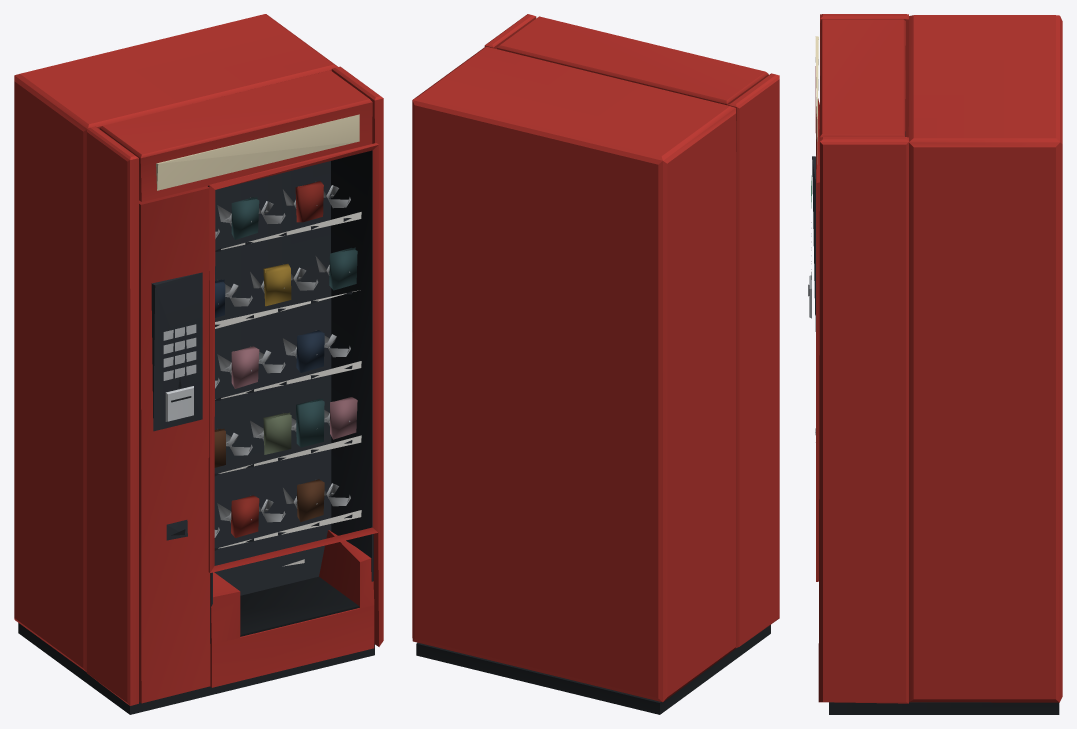
The model's file is vendingSnack.far.glb.
3 renders of one model, left to right at view 1: azimuth 30°, elevation 25°; view 2: azimuth 150°, elevation 25°; view 3: azimuth 270°, elevation 25°, orthographic. The views are drawn at different scales.
Visible parts, largest first — view 1: vendingSnack_far; view 2: vendingSnack_far; view 3: vendingSnack_far.
Boxes of the visible parts, left/top/right/bottom form: vendingSnack_far: left=14, top=14, right=383, bottom=714; vendingSnack_far: left=412, top=14, right=779, bottom=714; vendingSnack_far: left=808, top=14, right=1062, bottom=714.
Size of the model in its own units: 0.9 by 1.88 by 0.751.
